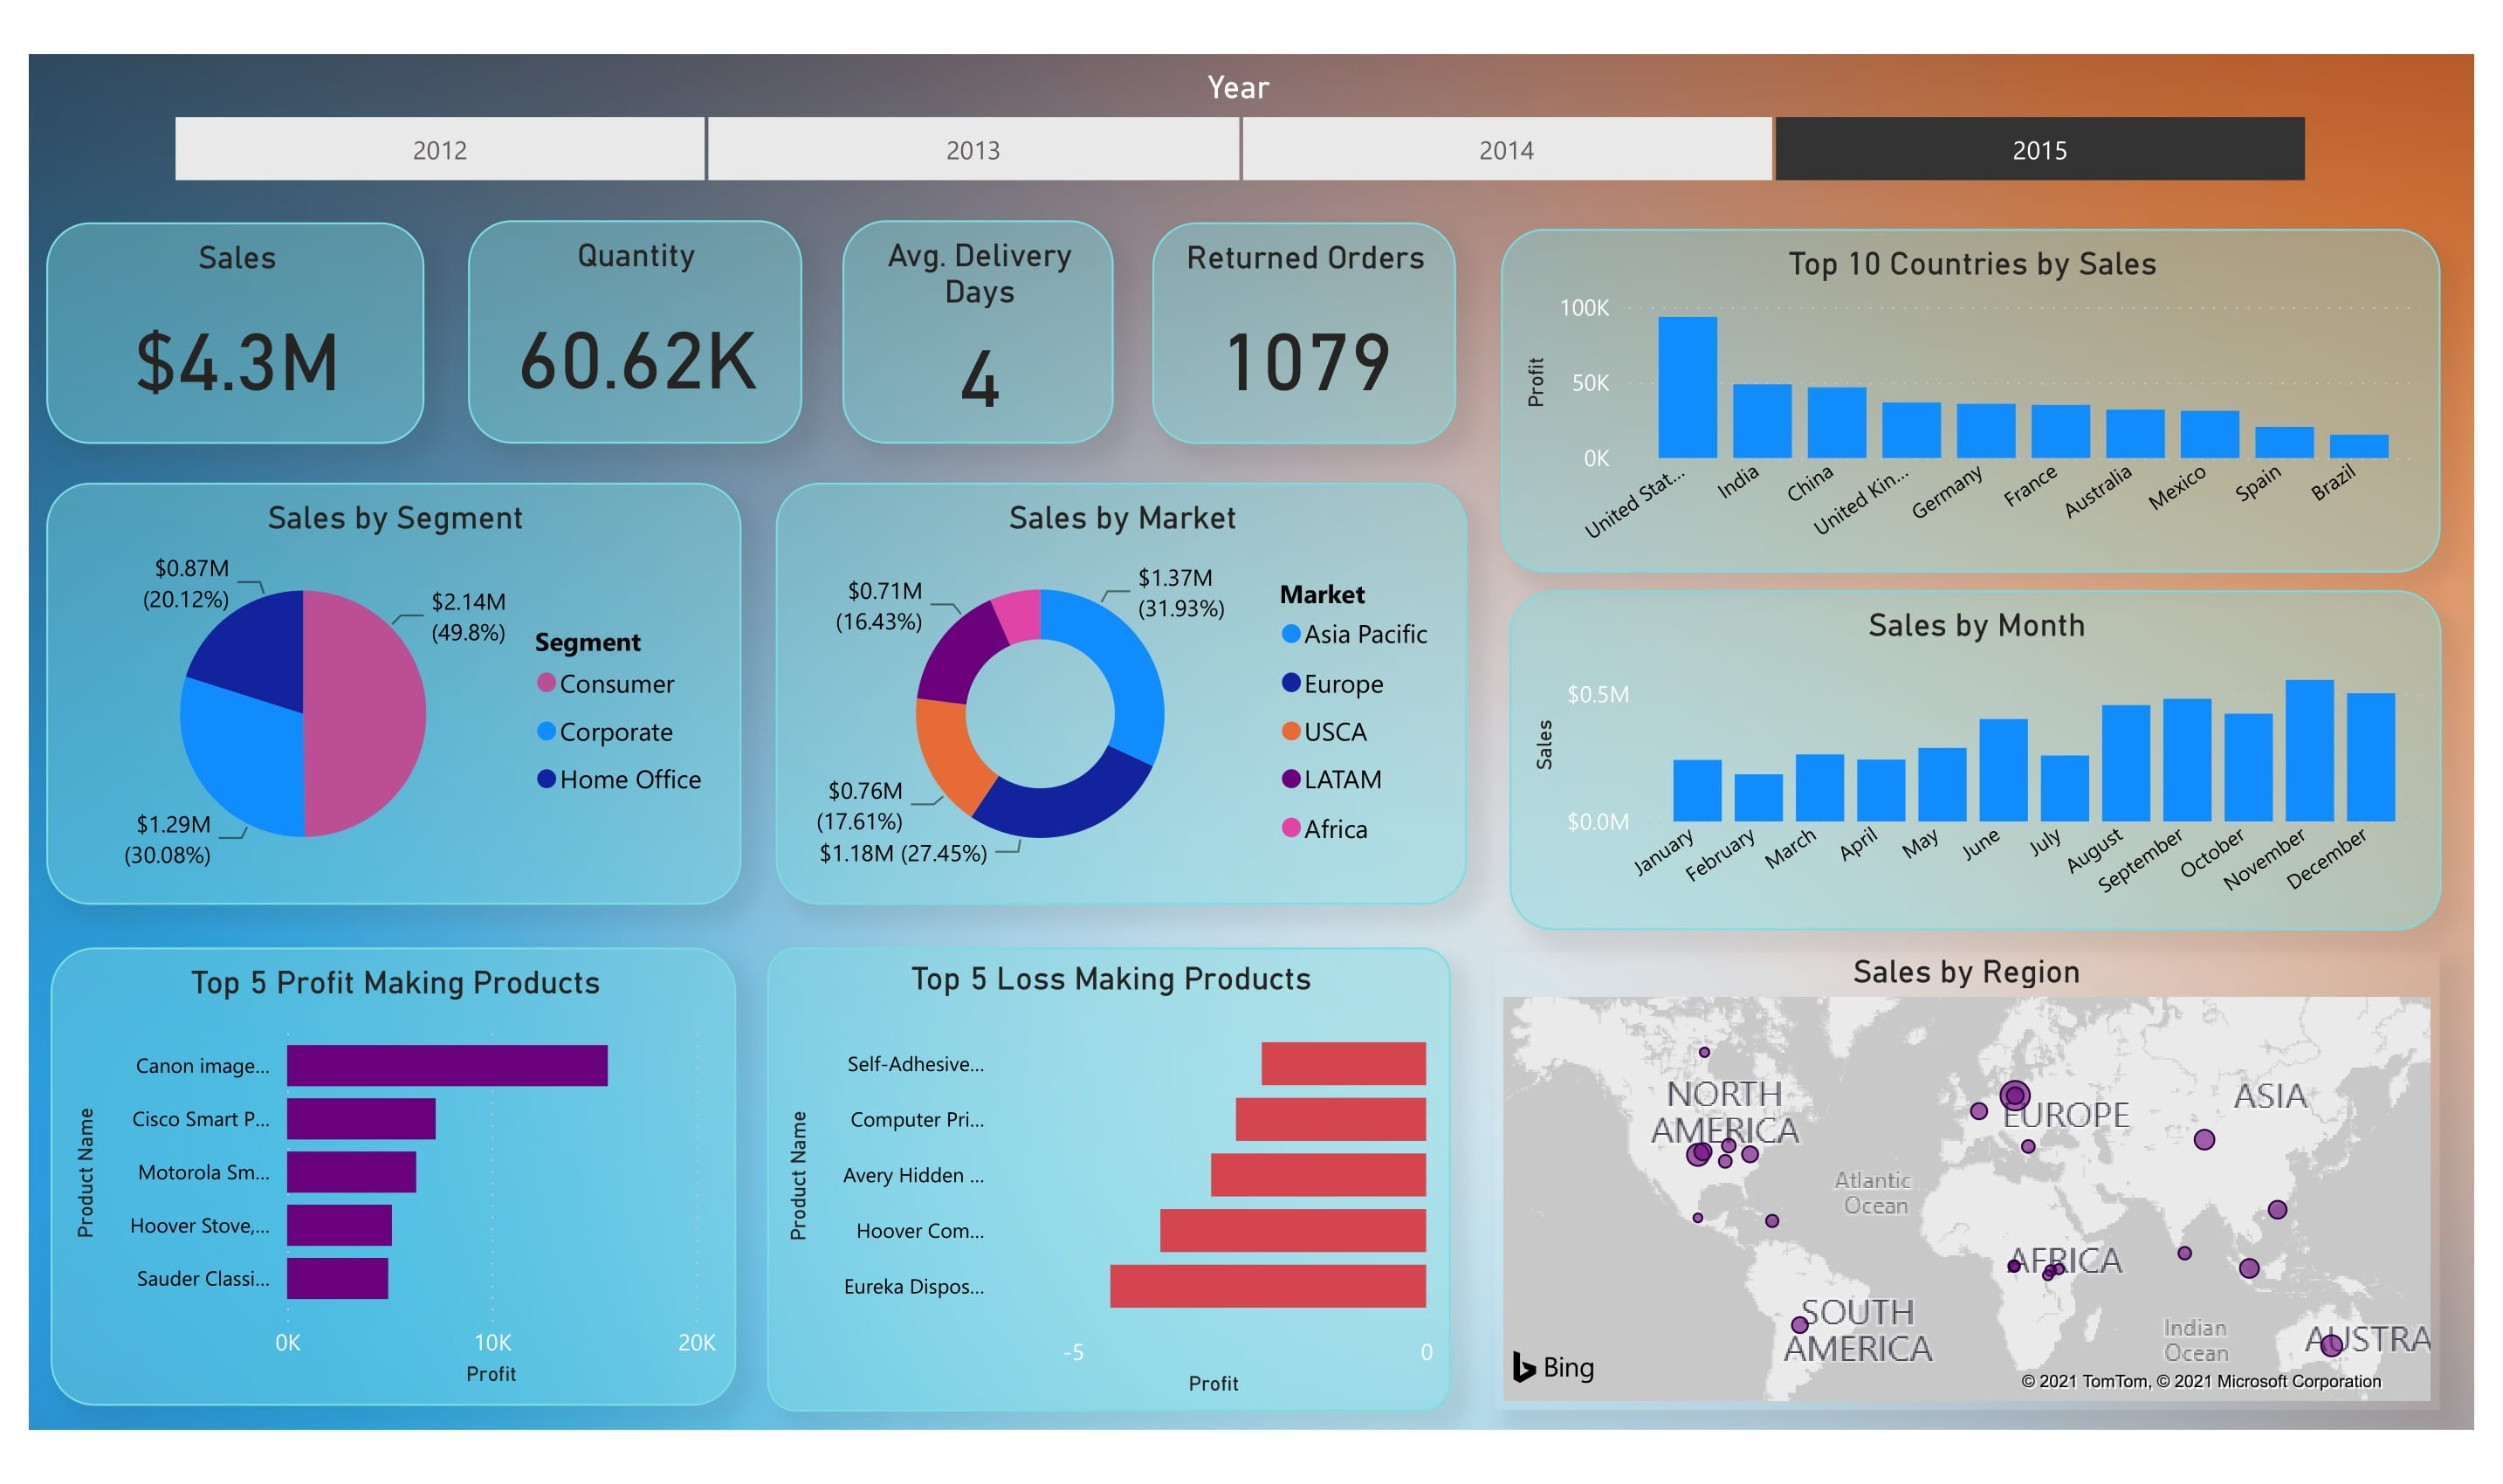

This screenshot's page, from the dashboard's own definition file:
{"tool":"powerbi","page":{"name":"Page 1","canvas":[1280,720],"ordinal":0},"visuals":[{"type":"card","title":"Sales","fields":{"Values":["Sum(Orders.Sales)"]},"box":[9,87.9,198.3,116.1],"z":0},{"type":"card","title":"Quantity","fields":{"Values":["Sum(Orders.Quantity)"]},"box":[229.9,86.8,174.6,117.2],"z":1000},{"type":"card","title":"Avg. Delivery Days","fields":{"Values":["Avg(Orders.Delivery Days)"]},"box":[425.9,86.8,142,117.2],"z":2000},{"type":"card","title":"Returned Orders","fields":{"Values":["Sum(Returns.Return Orders)"]},"box":[588.2,87.9,158.9,116.1],"z":3000},{"type":"map","fields":{"Category":["Orders.Region"],"Size":["Sum(Orders.Sales)"]},"box":[767.3,469.9,494.6,240],"z":4000},{"type":"barChart","title":"Top 5 Profit Making Products","fields":{"Y":["Sum(Orders.Profit)"],"Category":["Orders.Product Name"]},"box":[11.3,467.6,359.4,240],"z":5000},{"type":"barChart","title":"Top 5 Loss Making Products","fields":{"Y":["Sum(Orders.Profit)"],"Category":["Orders.Product Name"]},"box":[386.5,467.6,358.3,243.4],"z":6000},{"type":"pieChart","fields":{"Category":["Orders.Segment"],"Y":["Sum(Orders.Sales)"]},"box":[9,224.1,363.9,220.8],"z":7000},{"type":"donutChart","fields":{"Category":["Orders.Market"],"Y":["Sum(Orders.Sales)"]},"box":[391,224.1,361.7,220.8],"z":8000},{"type":"columnChart","title":"Top 10 Countries by Sales","fields":{"Y":["Sum(Orders.Profit)"],"Category":["Orders.Country"]},"box":[771.1,91.2,492.2,179.9],"z":9000},{"type":"columnChart","title":"Sales by Month","fields":{"Y":["Sum(Orders.Sales)"],"Category":["Orders.Order Date.Variation.Date Hierarchy.Month"]},"box":[775.2,280.6,487.9,178],"z":10000},{"type":"slicer","title":"Year","fields":{"Values":["Orders.Year"]},"box":[50.7,6.8,1165.1,66.5],"z":11000}]}

Visuals, with their boxes on the page's 1280x720 design canvas (x1, y1, x2, y2). These are canvas units, not pixel positions in the 2503x1484 screenshot, which may show the page scaled, cropped or inside an application window:
"Sales" card: 9 88 207 204
"Quantity" card: 230 87 404 204
"Avg. Delivery Days" card: 426 87 568 204
"Returned Orders" card: 588 88 747 204
map - Orders.Region x Sum(Orders.Sales): 767 470 1262 710
"Top 5 Profit Making Products" barChart: 11 468 371 708
"Top 5 Loss Making Products" barChart: 386 468 745 711
pieChart - Orders.Segment x Sum(Orders.Sales): 9 224 373 445
donutChart - Orders.Market x Sum(Orders.Sales): 391 224 753 445
"Top 10 Countries by Sales" columnChart: 771 91 1263 271
"Sales by Month" columnChart: 775 281 1263 459
"Year" slicer: 51 7 1216 73
